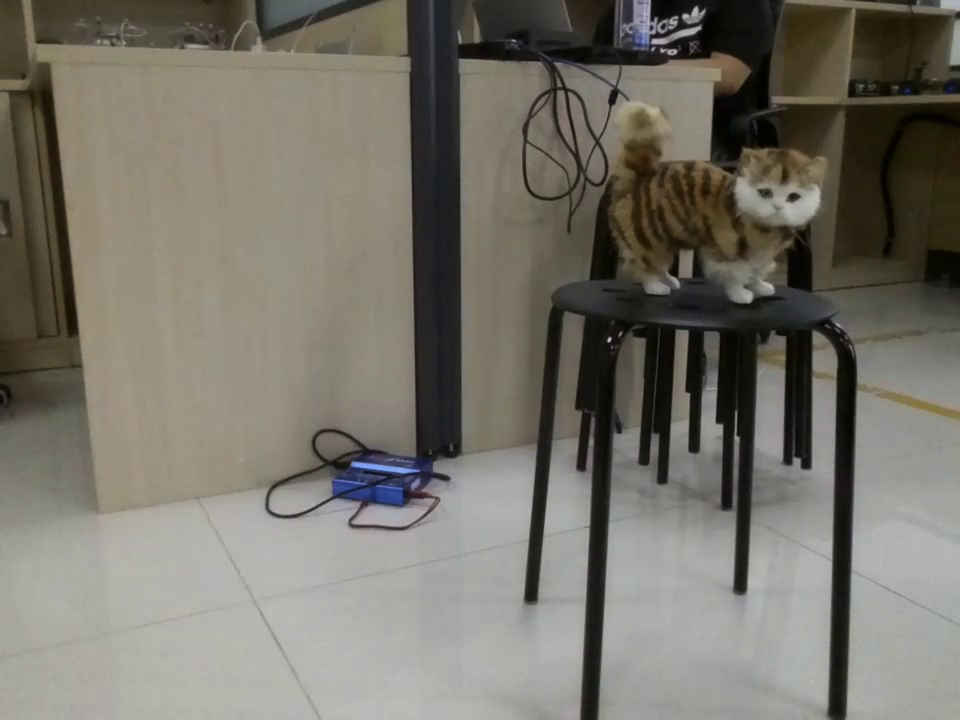cat: (607, 108, 837, 305)
